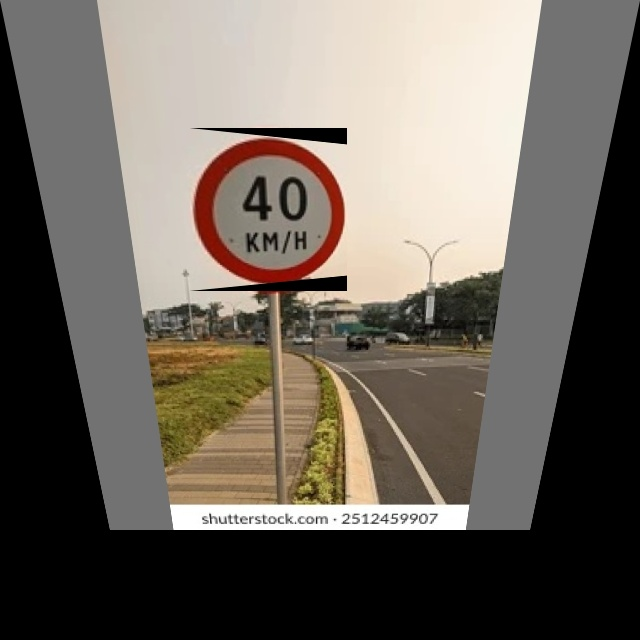Speed_Limit_40: (189, 128, 347, 291)
